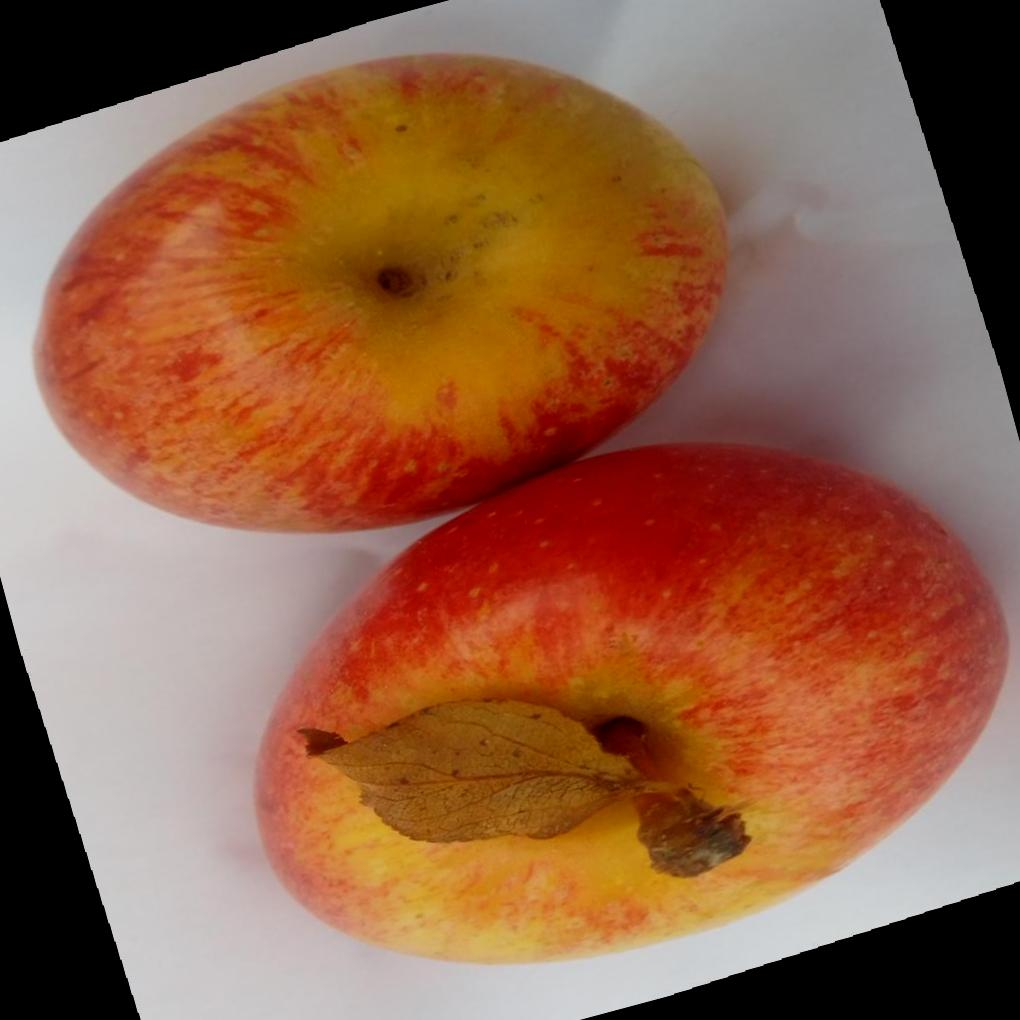FreshGuava: (30, 46, 1014, 966)
